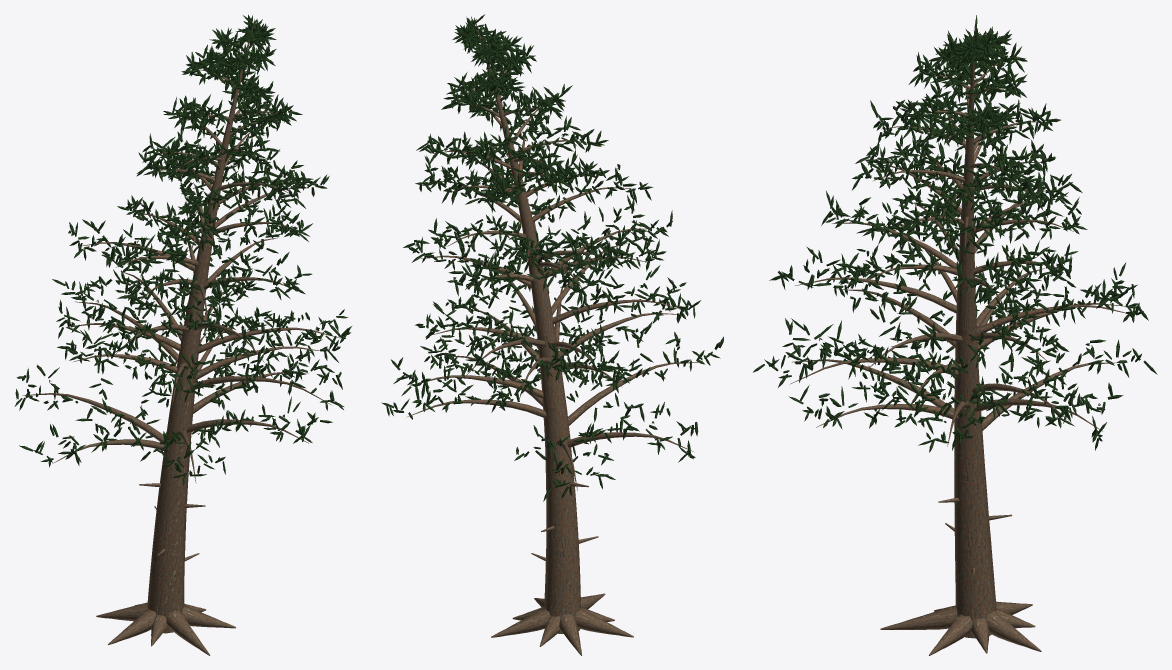
File: pine_windswept_lod2.gltf
3 renders of one model, left to right at view 1: azimuth 30°, elevation 25°; view 2: azimuth 150°, elevation 25°; view 3: azimuth 270°, elevation 25°, orthographic. The views are drawn at different scales.
Parts seen in each view (by area): view 1: pine_windswept_lod2; view 2: pine_windswept_lod2; view 3: pine_windswept_lod2.
Boxes of the visible parts, bbox=[...] form: pine_windswept_lod2: bbox=[14, 14, 351, 655]; pine_windswept_lod2: bbox=[381, 14, 723, 655]; pine_windswept_lod2: bbox=[753, 15, 1157, 655].
Bounding box in the file's own units: 4.42 × 8.61 × 4.82.
Materials: 2 (2 with a texture image).
